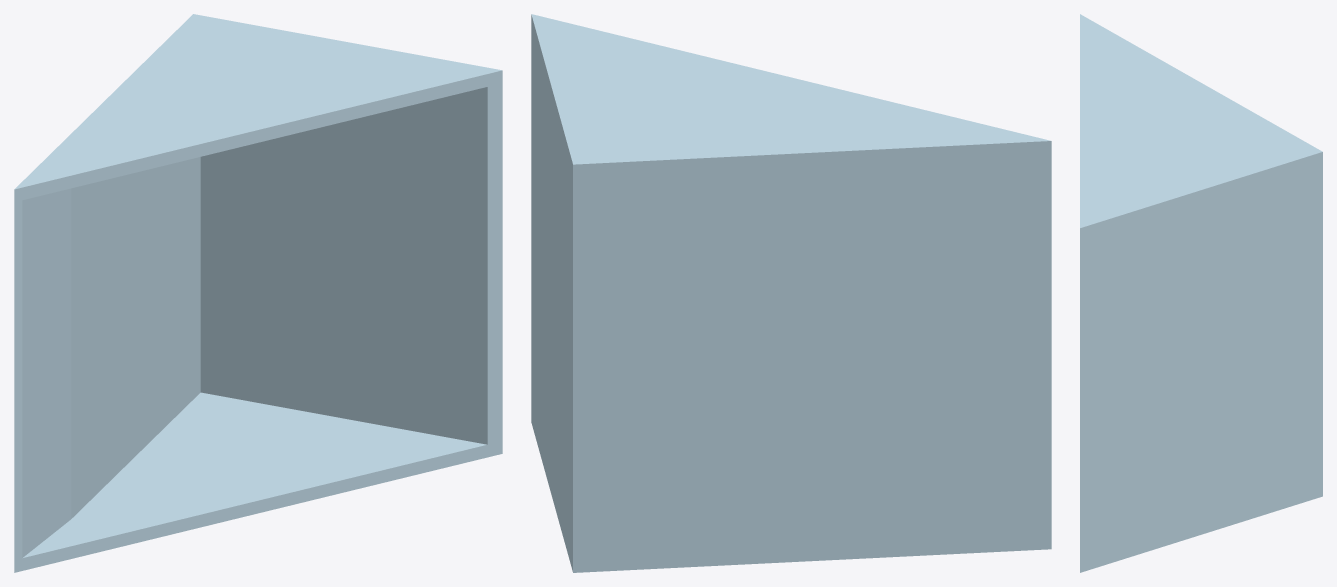
Rendered from bucket.gltf.
The picture shows the model from 3 angles, left to right: view 1: azimuth 30°, elevation 25°; view 2: azimuth 150°, elevation 25°; view 3: azimuth 270°, elevation 25°; orthographic projection. The views are drawn at different scales.
Visible parts, largest first — view 1: mesh722, mesh723, mesh715, mesh721, mesh719, mesh724; view 2: mesh717, mesh715, mesh716; view 3: mesh716, mesh715.
Boxes of the visible parts, x1,y1,x2,y2 form: mesh722: (200, 87, 487, 444); mesh723: (71, 157, 200, 518); mesh715: (15, 14, 501, 189); mesh721: (23, 392, 486, 557); mesh719: (14, 70, 502, 572); mesh724: (22, 188, 71, 557); mesh717: (573, 141, 1051, 572); mesh715: (531, 14, 1050, 164); mesh716: (531, 15, 572, 571); mesh716: (1080, 152, 1322, 572); mesh715: (1080, 14, 1322, 227).
Size of the model in its own units: 0.4 by 0.3 by 0.1916.
